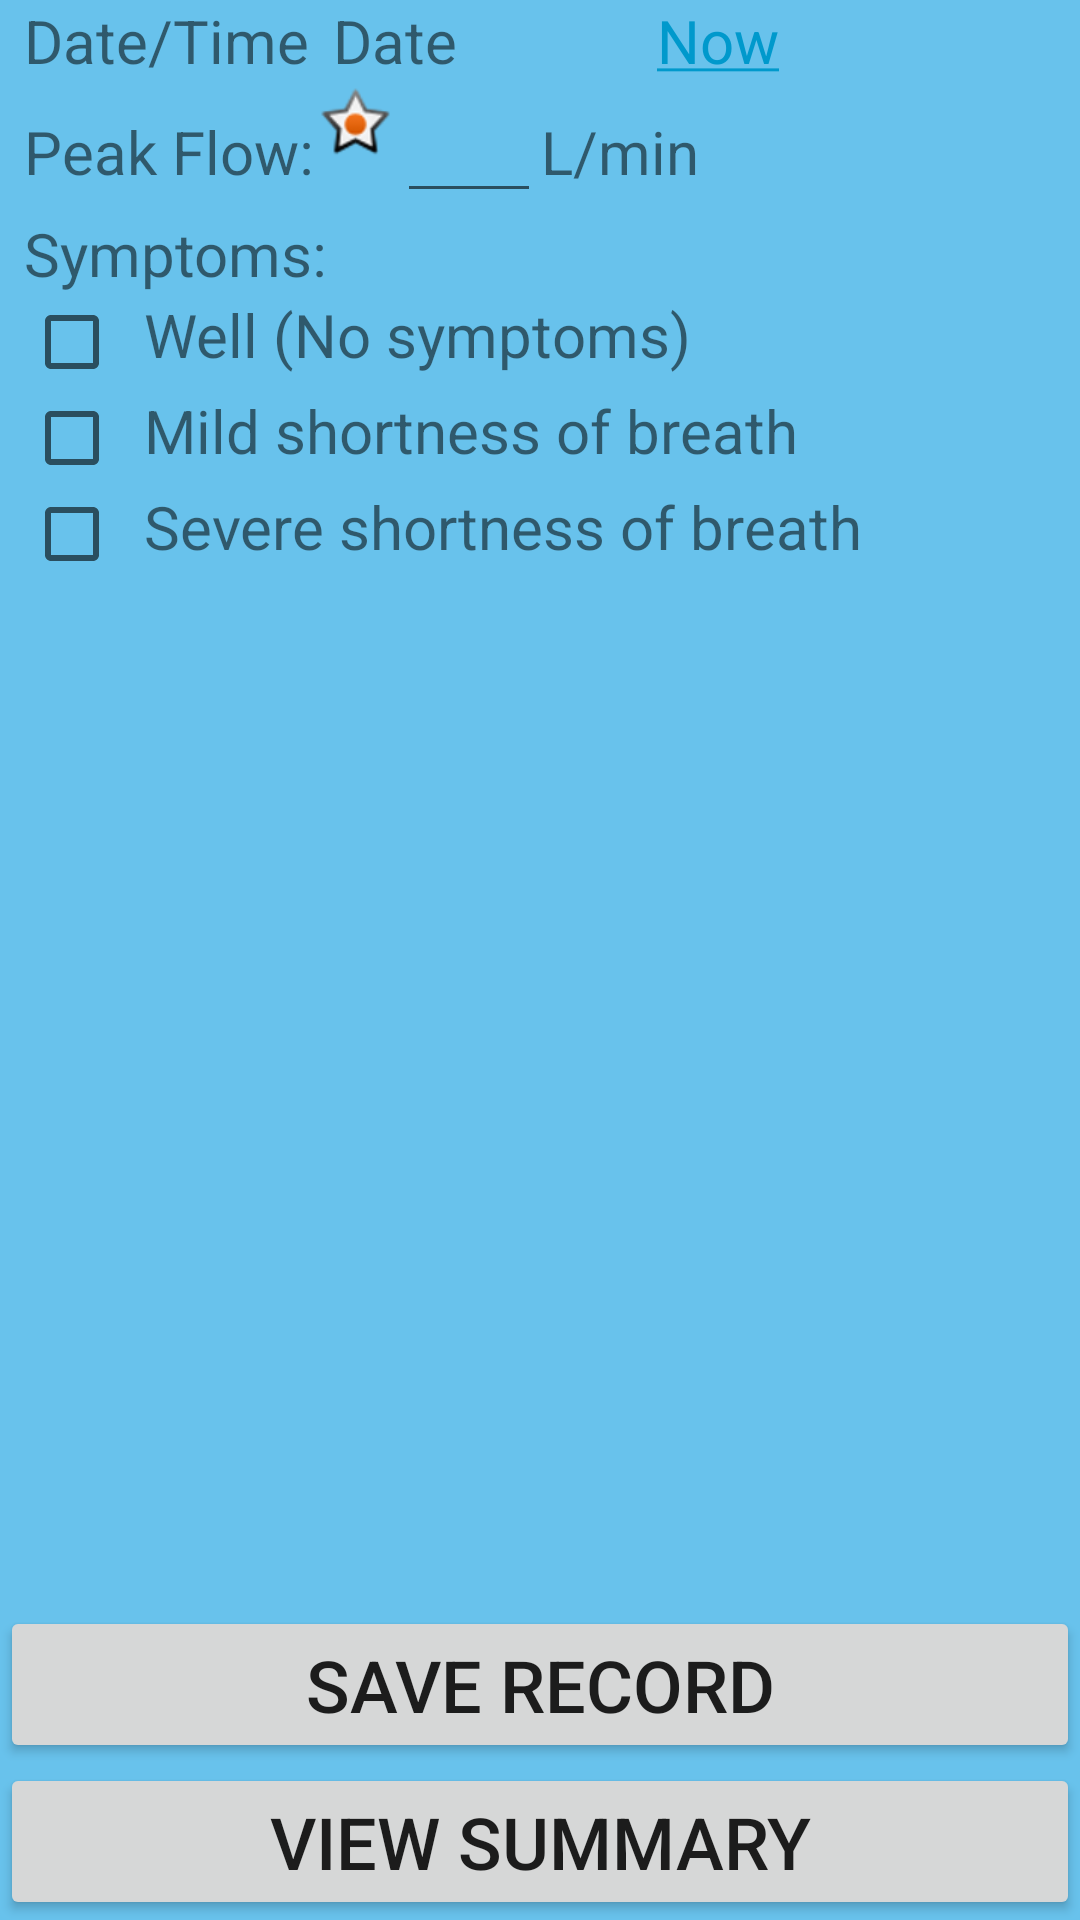

Where to tap for icons on this 1080×1920 app screen, as [x,y]:
star on: [356,121]
